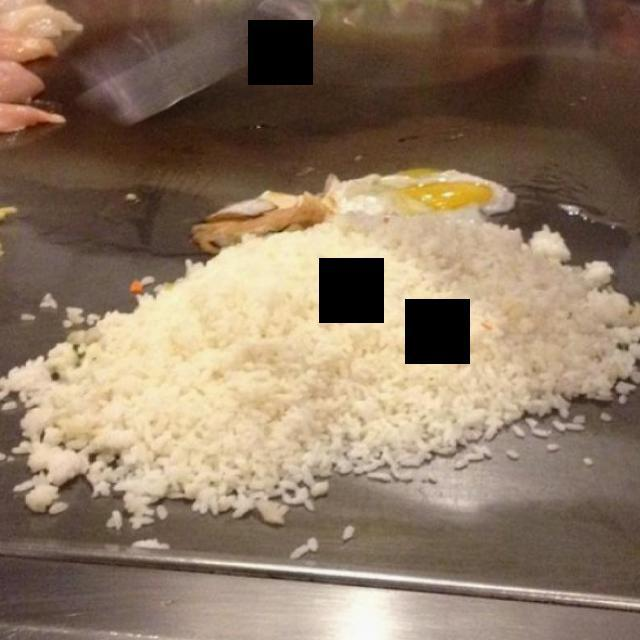rice: (5, 208, 640, 520)
